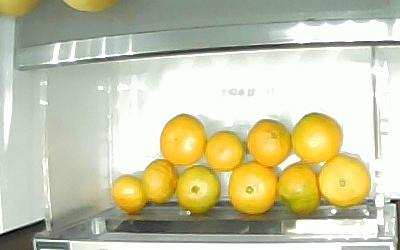tangerine: (316, 153, 371, 206), (289, 111, 343, 163), (227, 160, 279, 214), (158, 112, 207, 166), (274, 162, 321, 215), (245, 117, 292, 167), (174, 164, 221, 214), (203, 129, 244, 172), (141, 157, 177, 203), (110, 172, 148, 212)
